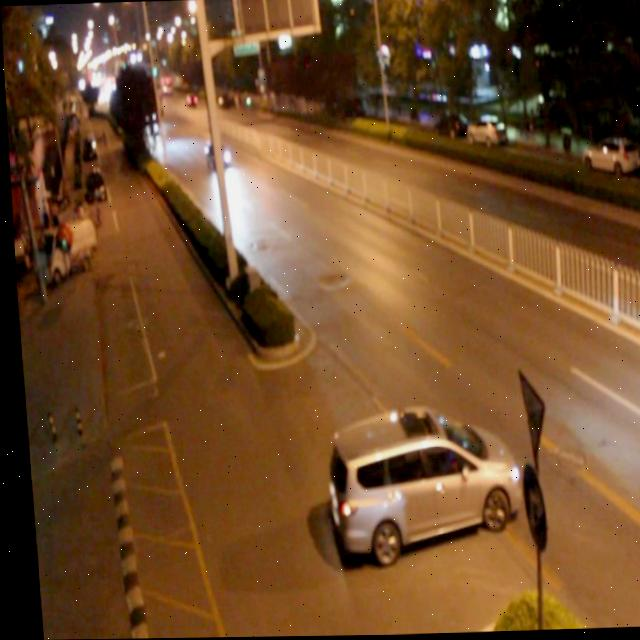car: (321, 403, 515, 556), (200, 139, 228, 168)
